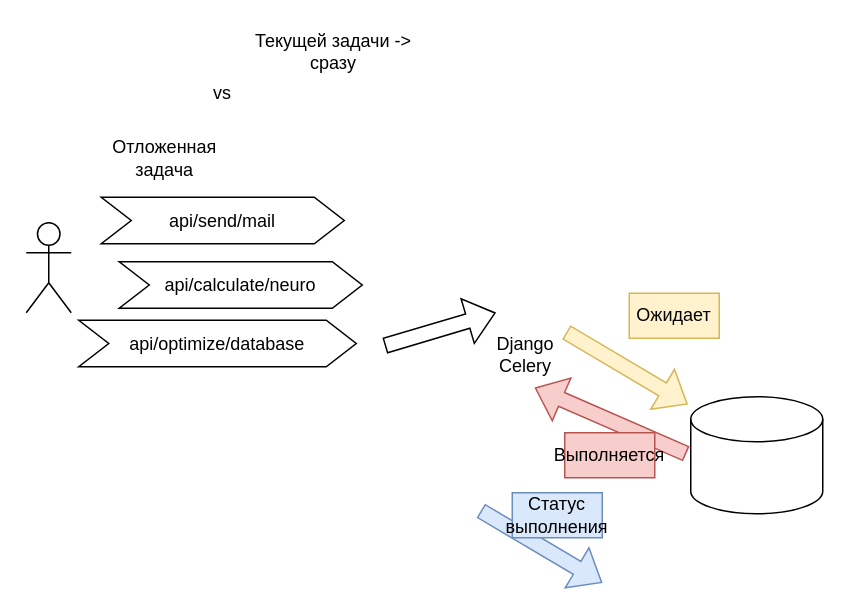
Some shapes in this 849 by 614 pixel diagram are drawn without their labels. Here are the shapes that lost their labels. From the top down, the box of each, then its label:
(25, 221, 71, 313): Actor
(689, 395, 823, 514): REDIS {key: value}
